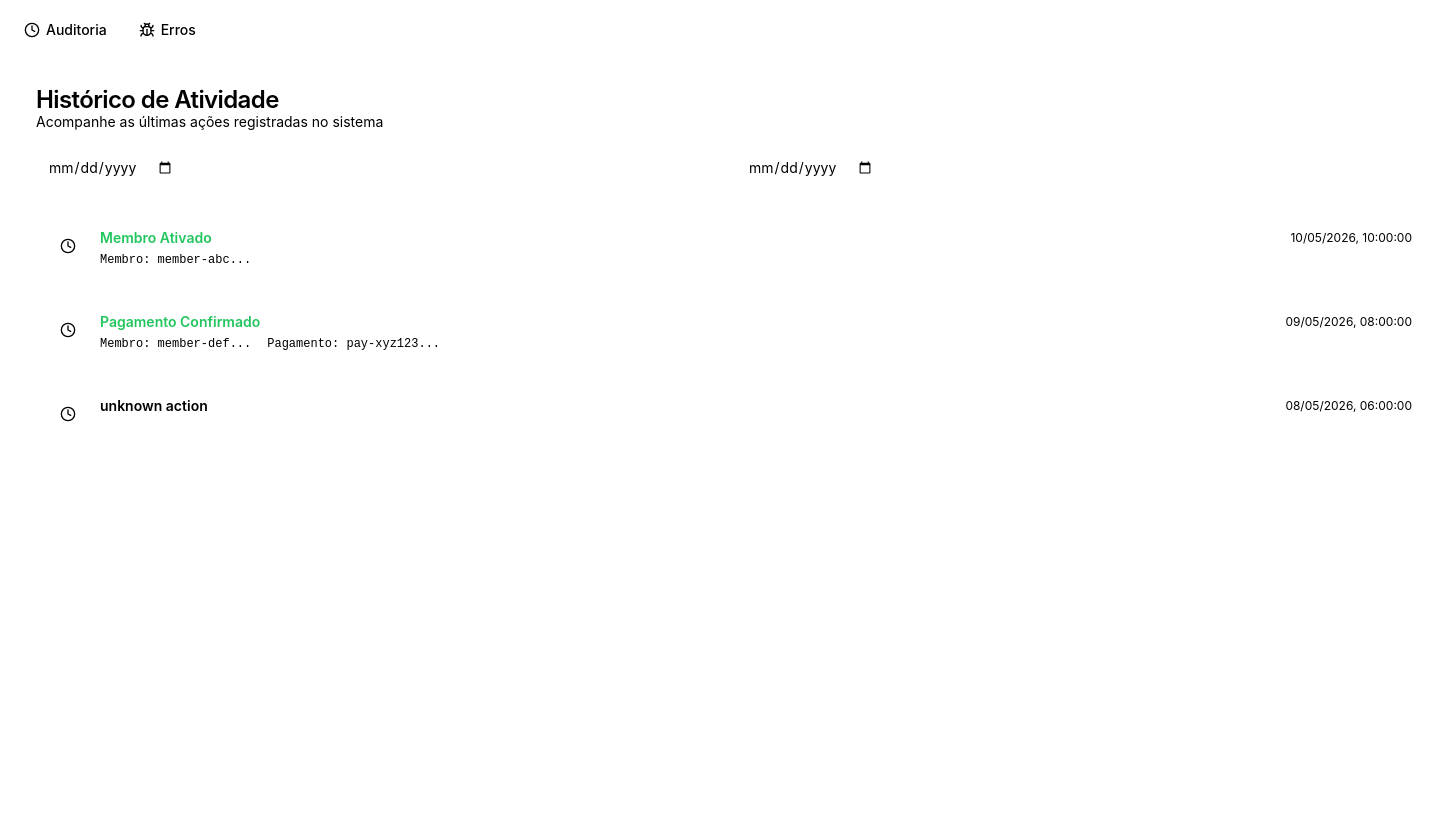
Test case: LogsTab › switches to errors sub-tab
The width and height of the screenshot is (1452, 822).
Click the button "Erros": (167, 30) [127,12,208,48]
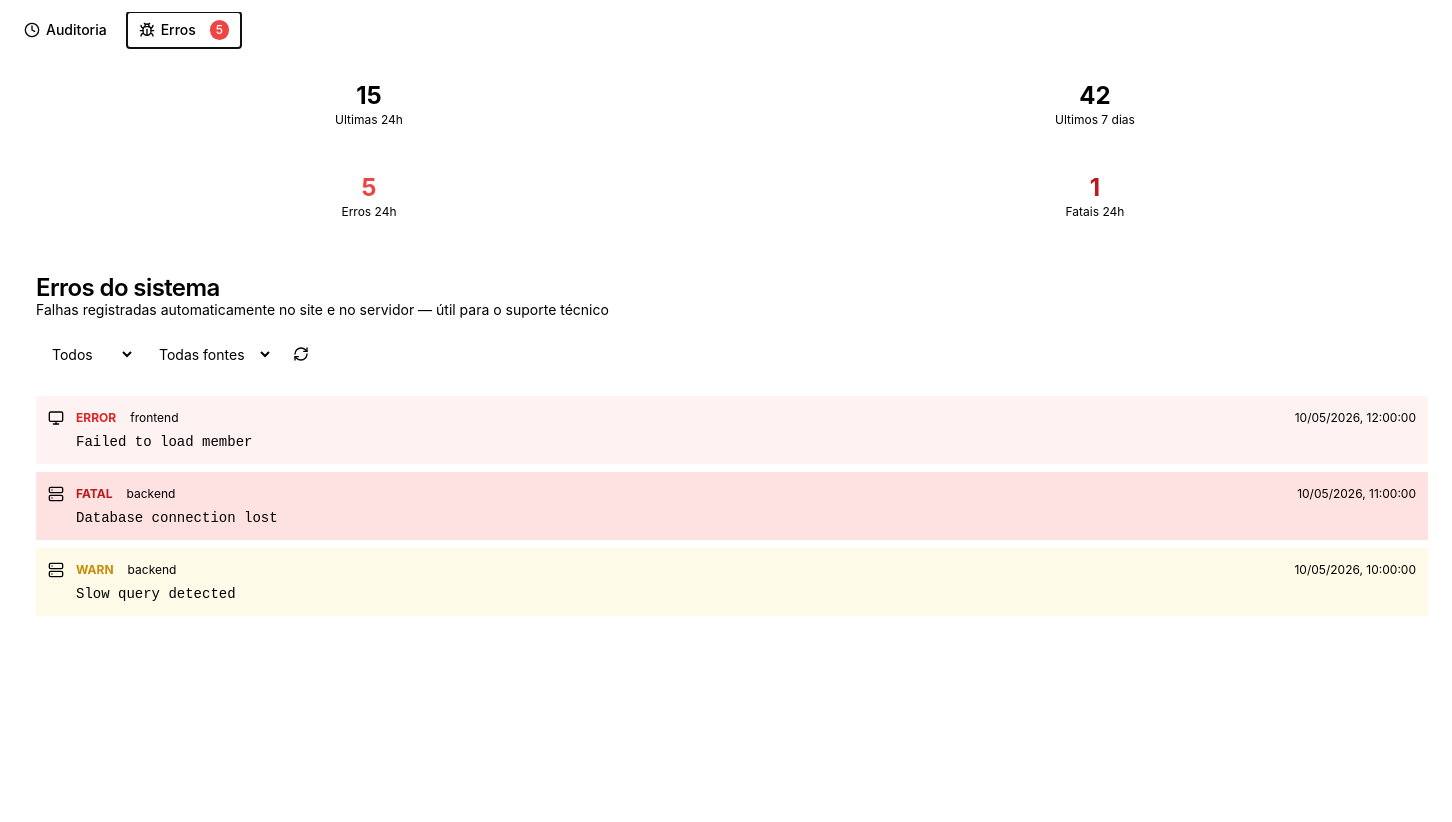
Expected: the heading "Erros do sistema" is shown, [36,273,220,302]
